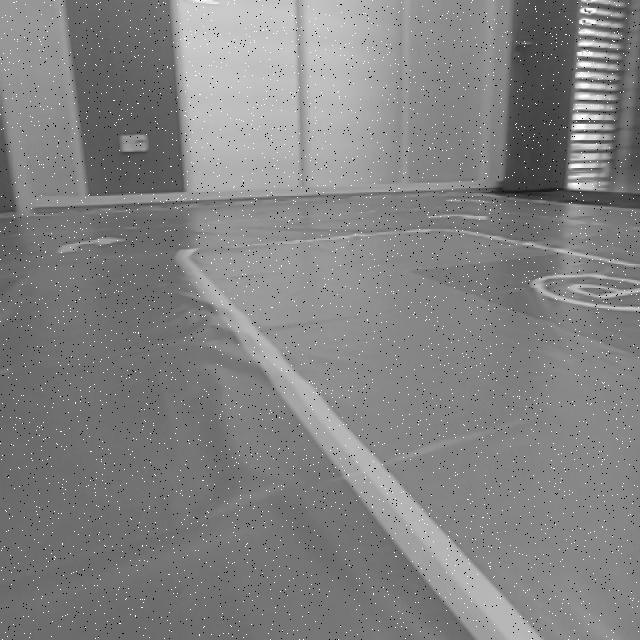right_lane: (175, 259, 504, 640)
